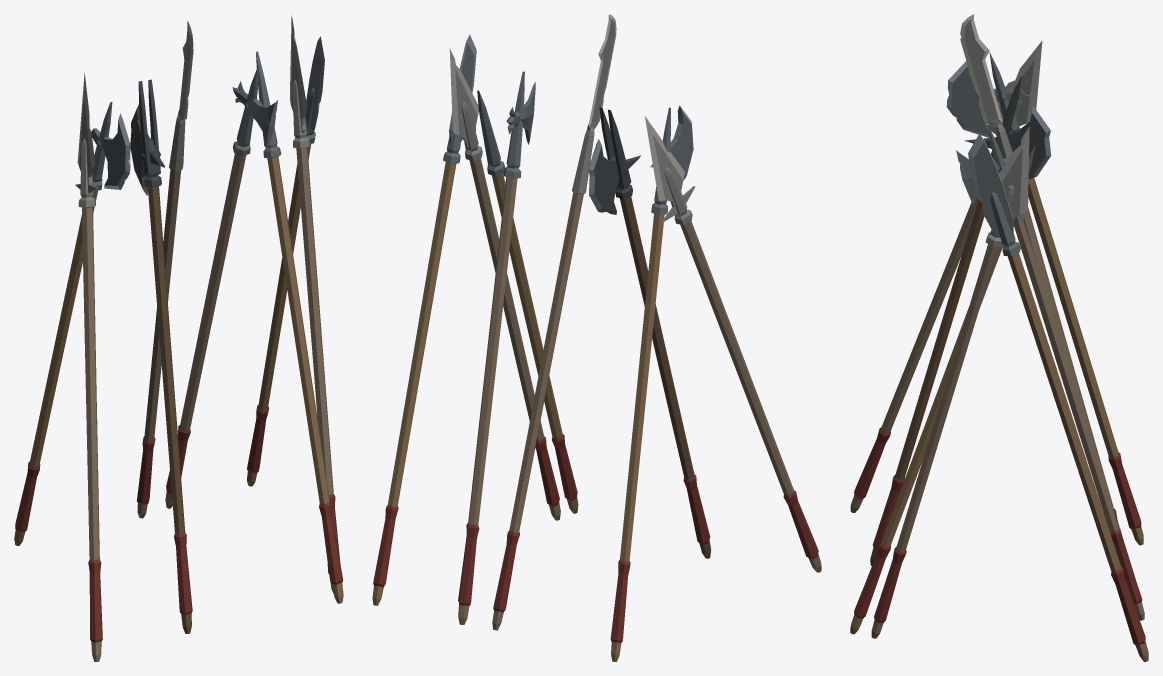
File: prop_camp_rack.gltf
3 views of the same model, side by side, from view 1: azimuth 30°, elevation 25°; view 2: azimuth 150°, elevation 25°; view 3: azimuth 270°, elevation 25° (orthographic).
Visible parts, largest first — view 1: prop_camp_rack; view 2: prop_camp_rack; view 3: prop_camp_rack.
Part boxes in pixels (x1,y1,x2,y2): prop_camp_rack: (14,15,343,661); prop_camp_rack: (372,14,821,661); prop_camp_rack: (850,14,1148,661).
Bounding box in the file's own units: 1.35 × 2.38 × 1.12.
Materials: 1 (1 with a texture image).
